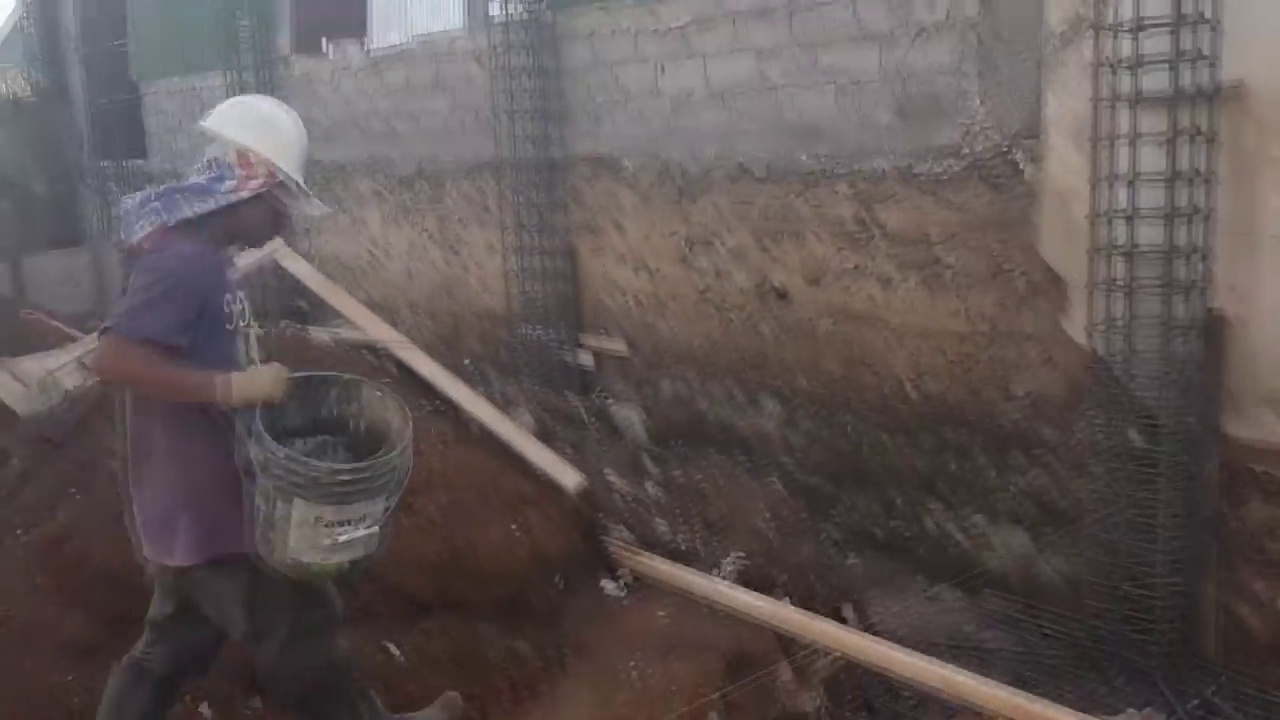helmet: (192, 92, 304, 196)
helmet-on: (170, 82, 306, 272)
person: (84, 97, 392, 708)
